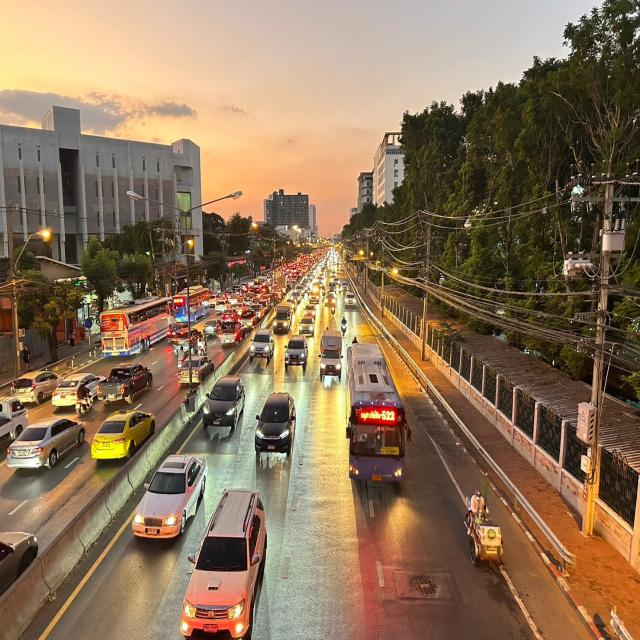bus: (342, 340, 411, 490)
truck: (462, 468, 505, 572), (319, 327, 346, 379), (272, 299, 292, 337)
